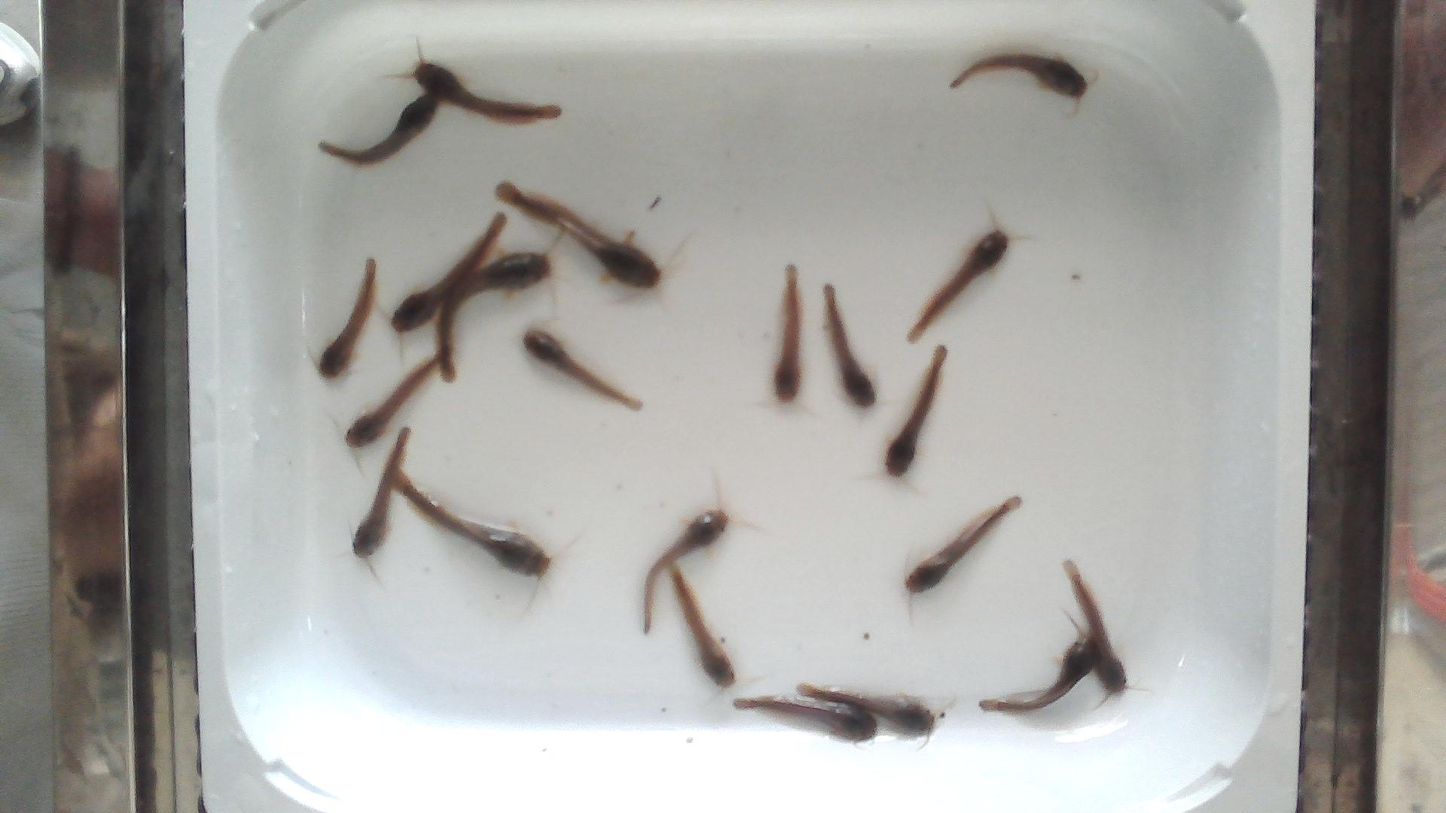lele: (496, 181, 661, 288), (390, 214, 504, 333), (396, 486, 548, 575), (440, 254, 549, 378), (911, 218, 1009, 337), (641, 509, 725, 631), (911, 496, 1021, 588), (523, 327, 641, 410), (416, 61, 562, 127), (341, 357, 445, 447), (980, 636, 1098, 714), (1065, 563, 1127, 695), (669, 567, 734, 686), (316, 94, 434, 158), (889, 346, 947, 474), (735, 694, 878, 745), (798, 684, 939, 735), (950, 53, 1088, 105), (319, 258, 376, 377), (350, 432, 401, 556), (825, 284, 875, 407), (772, 265, 803, 403)
